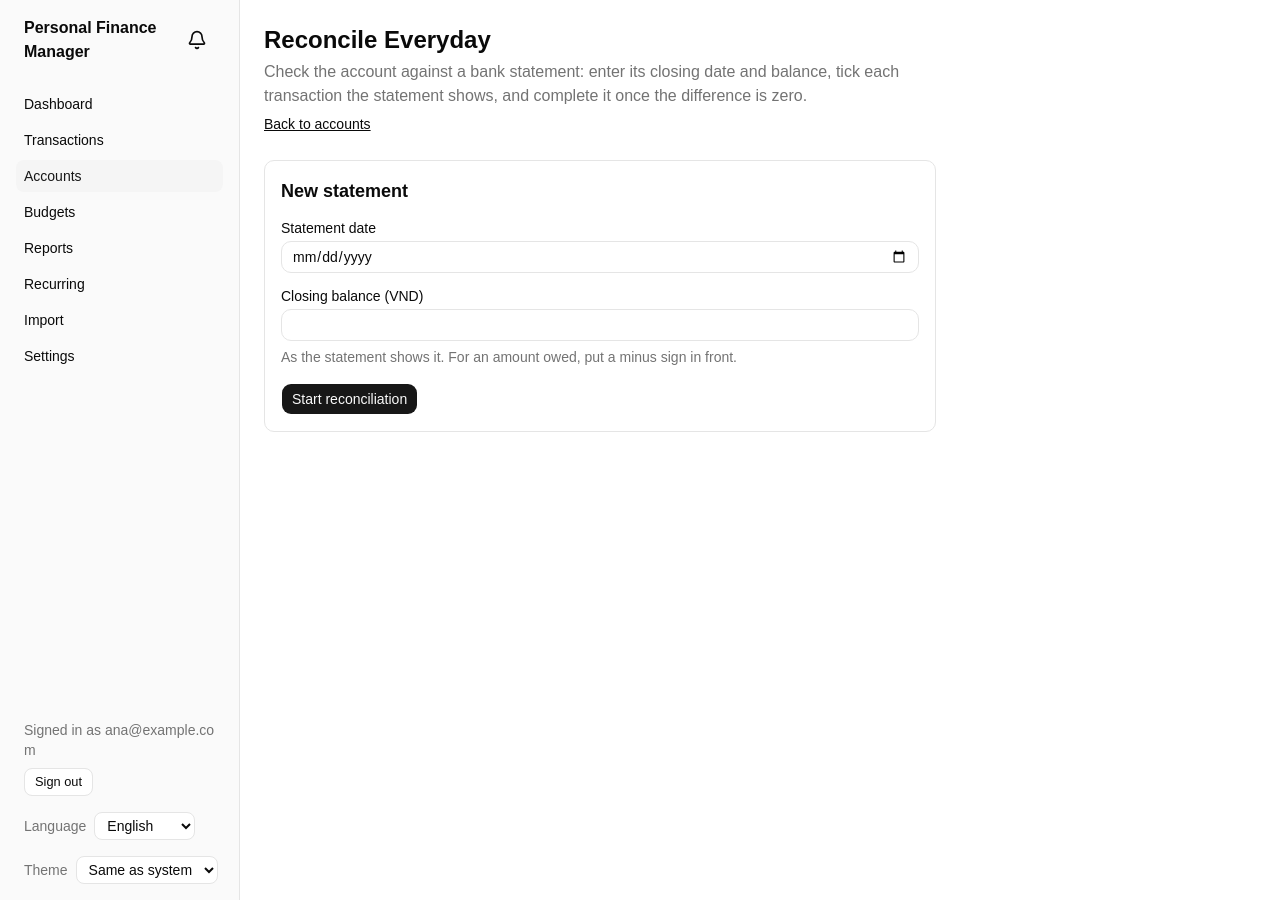
Test case: reconciling an account › lists the account’s transactions up to the statement date, and ticking them moves the difference towards zero
Type "2026-10-31" into the date field labelled "Statement date" at (600, 257), box x1=281 y1=241 x2=919 y2=273
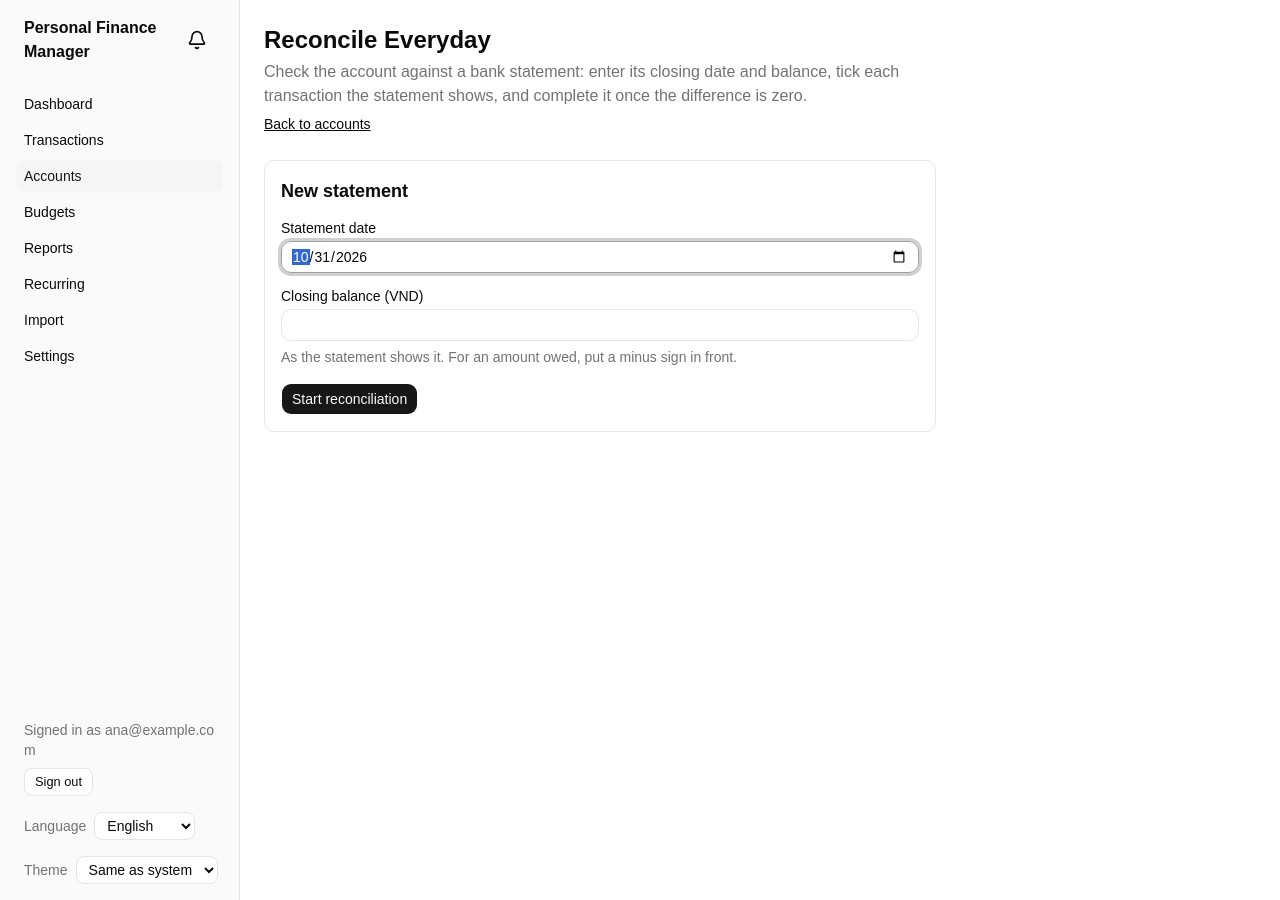
Type "5,500,000" into the field labelled "Closing balance (VND)" at (600, 325), box x1=281 y1=309 x2=919 y2=341
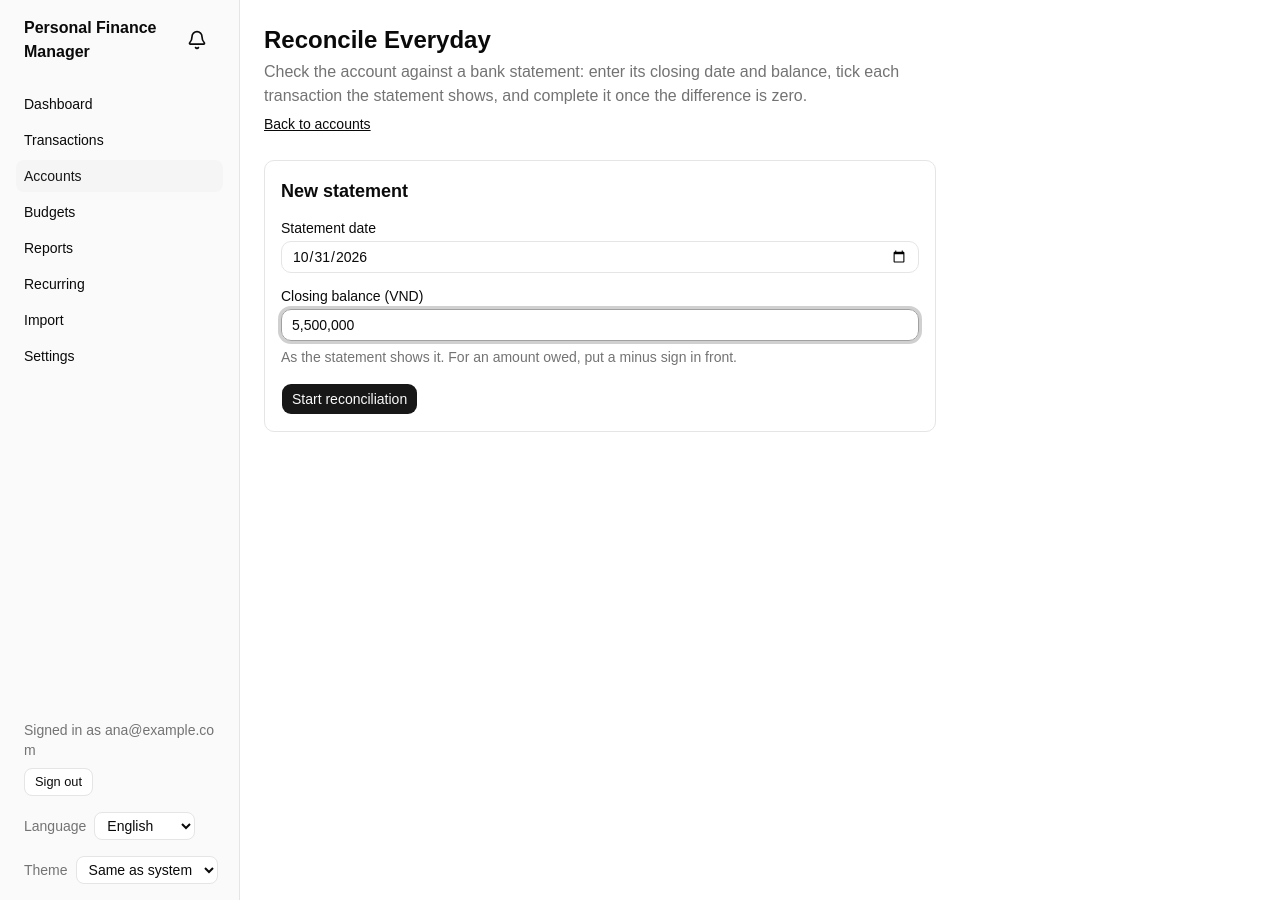
Click the button "Start reconciliation" at (350, 399), box x1=281 y1=383 x2=418 y2=415
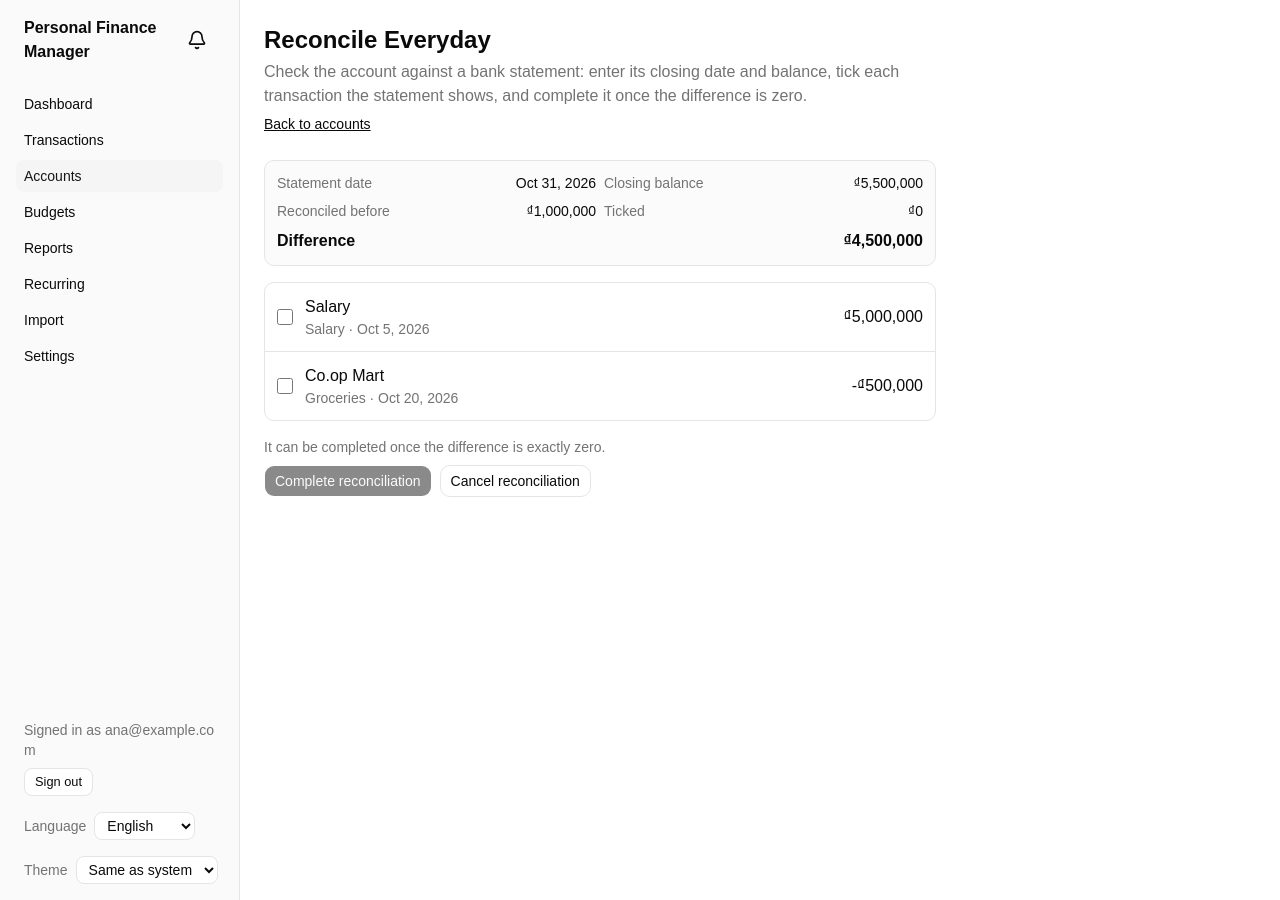
Click the checkbox named "Tick Salary" at (285, 317), box x1=277 y1=309 x2=293 y2=325
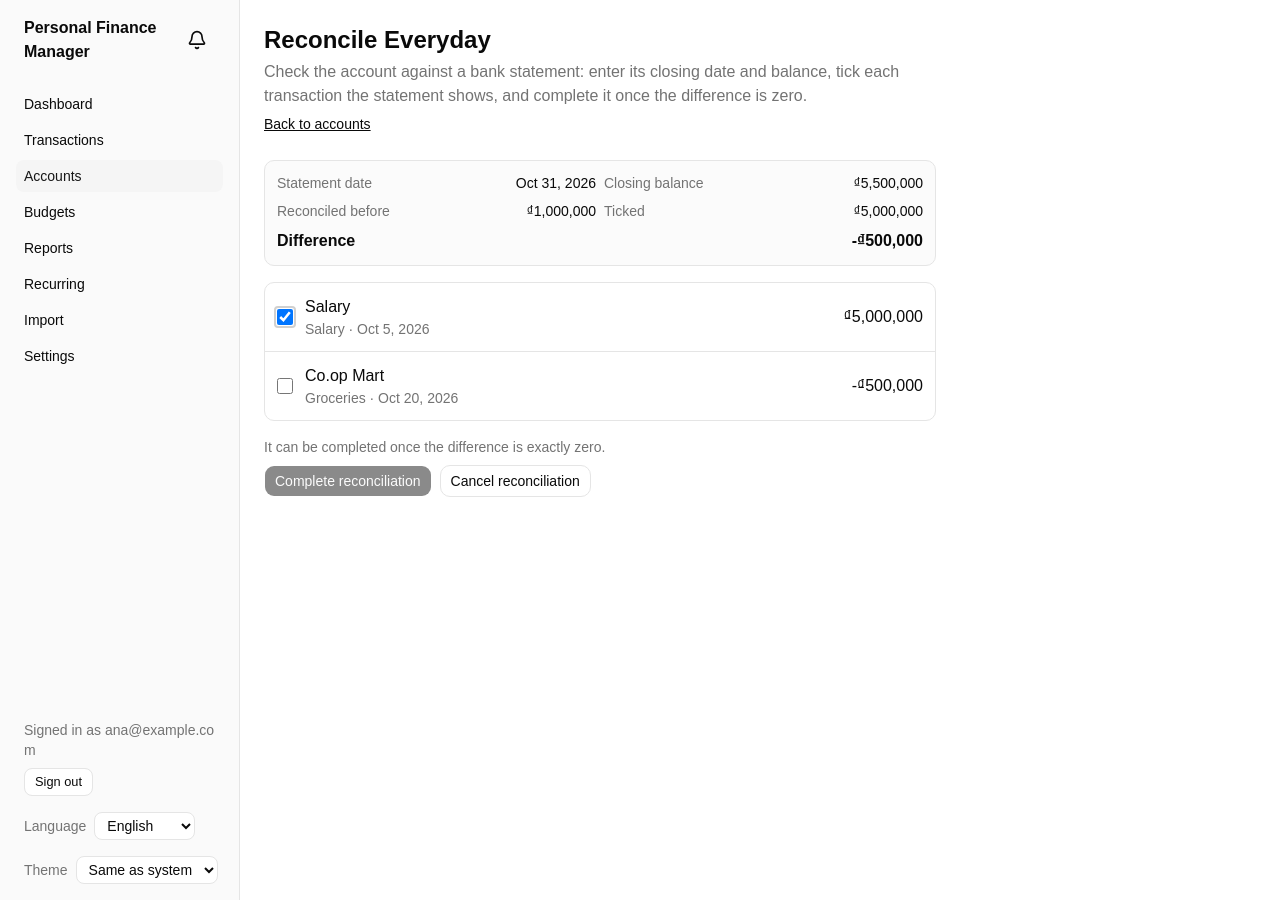
Check: the button "Complete reconciliation" is disabled, box x1=264 y1=465 x2=432 y2=497
Check: the text "It can be completed once the difference is exactly zero." is shown, box x1=264 y1=439 x2=605 y2=455
Check: the element with test id "difference" shows "-₫500,000", box x1=852 y1=232 x2=923 y2=249
Click the checkbox named "Tick Co.op Mart" at (285, 386), box x1=277 y1=378 x2=293 y2=394
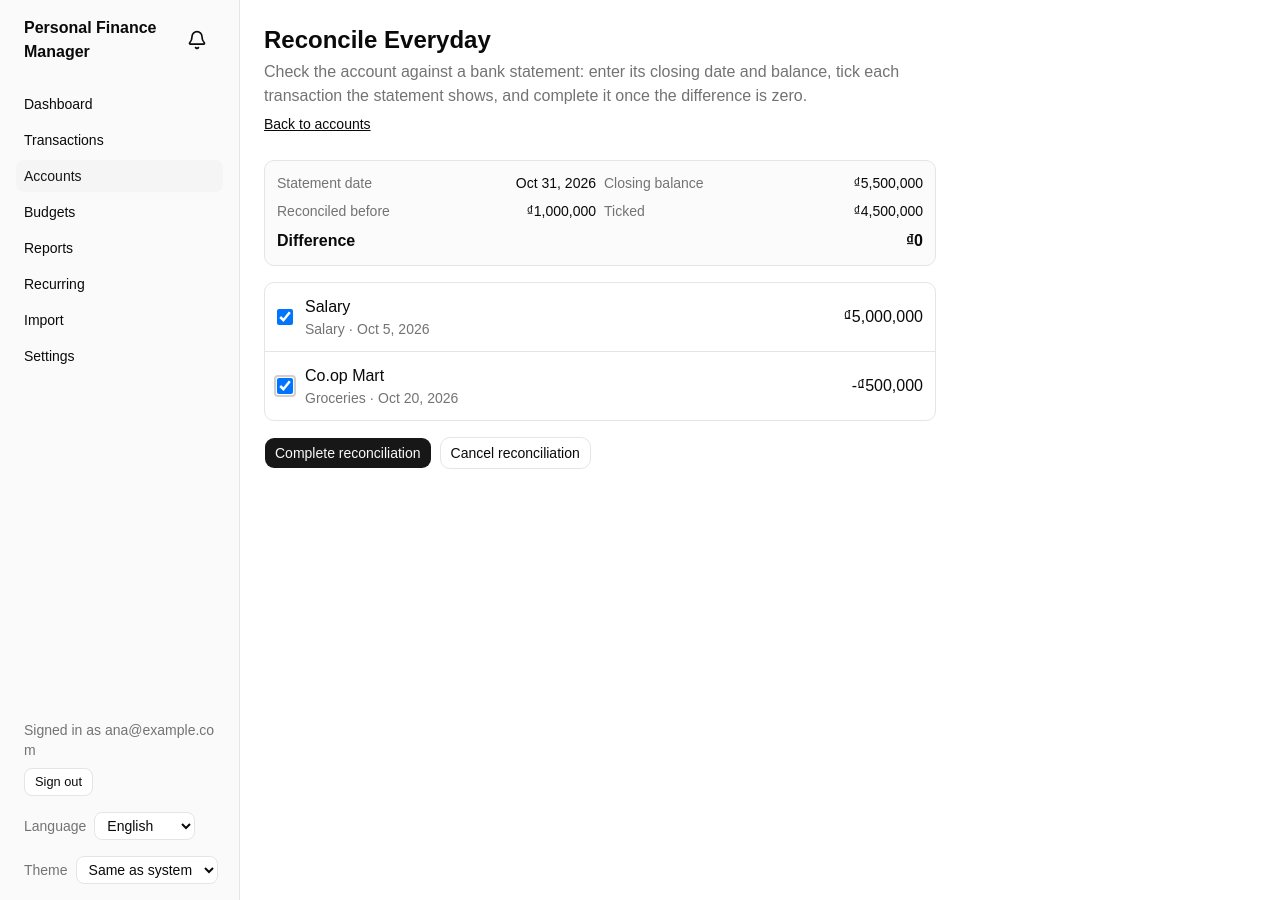
Check: the element with test id "difference" reads "Difference ₫0", box x1=277 y1=229 x2=923 y2=253
Check: the button "Complete reconciliation" is enabled, box x1=264 y1=437 x2=432 y2=469
Click the checkbox named "Tick Co.op Mart" at (285, 386), box x1=277 y1=378 x2=293 y2=394
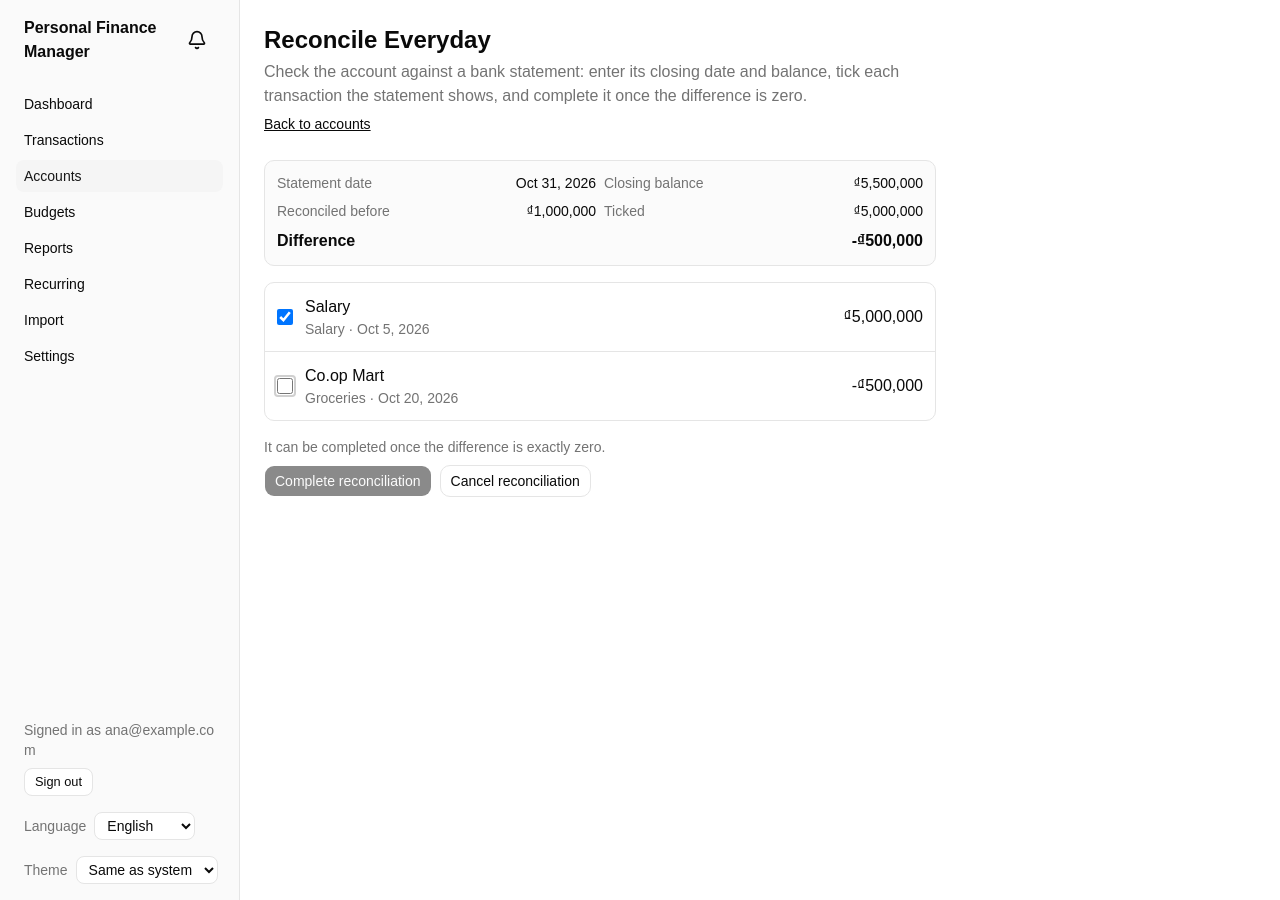
Check: the element with test id "difference" shows "-₫500,000", box x1=852 y1=232 x2=923 y2=249
